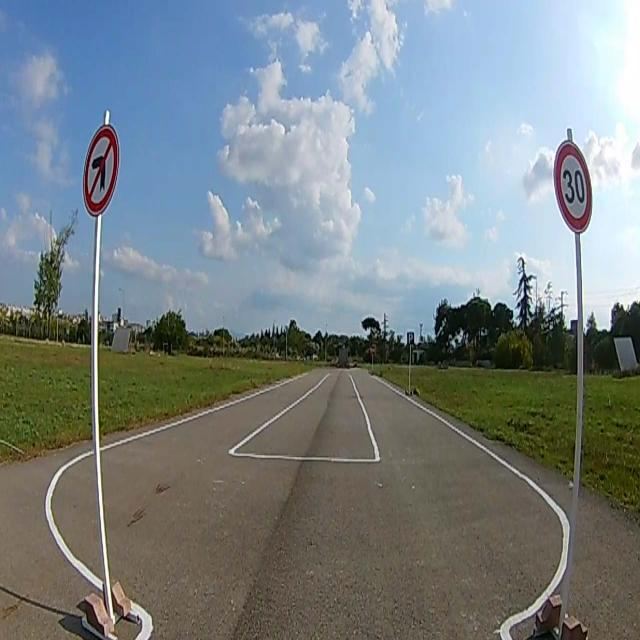30: (554, 141, 593, 235)
soladonulmez: (82, 126, 118, 214)
